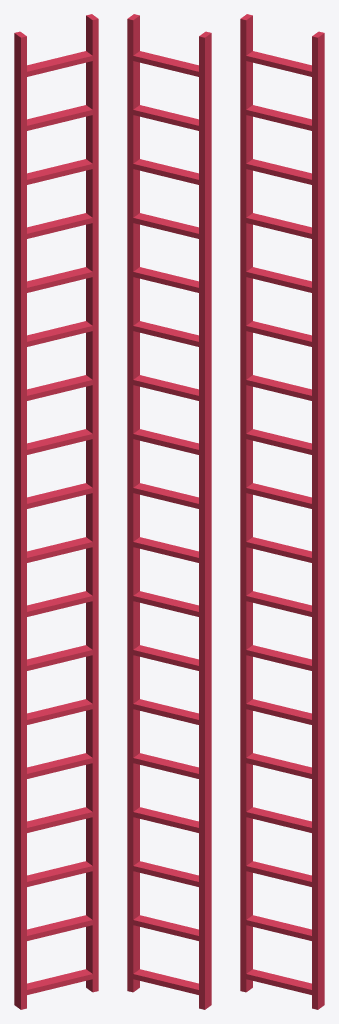
Rendered from ladder.glb.
3 renders of one model, left to right at view 1: azimuth 30°, elevation 25°; view 2: azimuth 150°, elevation 25°; view 3: azimuth 330°, elevation 25°, orthographic.
Parts seen in each view (by area): view 1: 立方体; view 2: 立方体; view 3: 立方体.
Part boxes in pixels (left/top/right/bottom): 立方体: left=14, top=14, right=98, bottom=1009; 立方体: left=127, top=14, right=211, bottom=1009; 立方体: left=240, top=14, right=324, bottom=1009.
Bounding box in the file's own units: 0.4059 × 4.86 × 0.0602.
